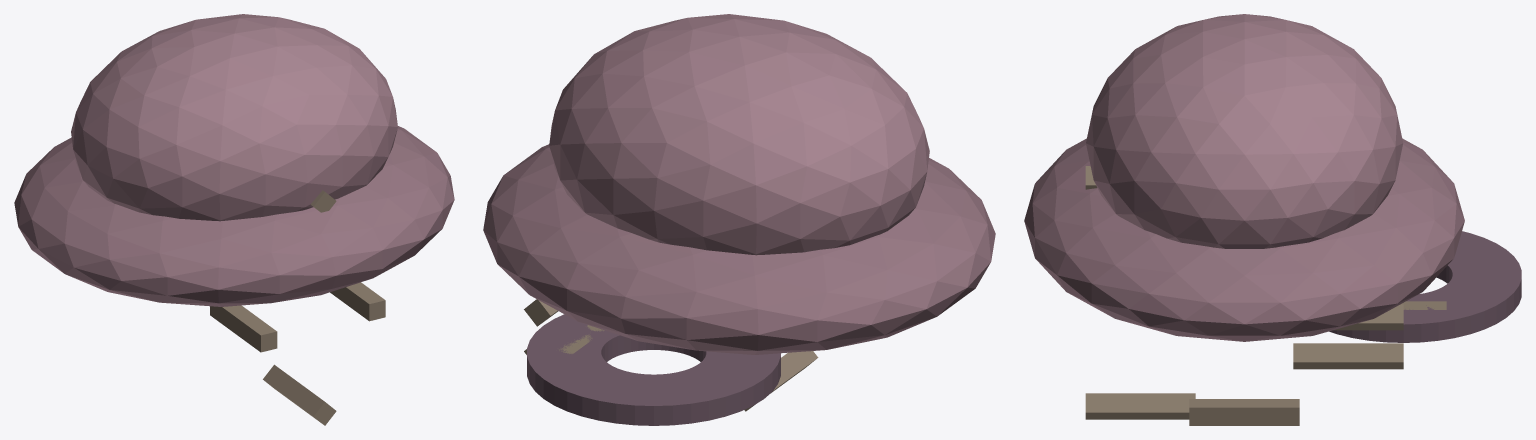
File: zglengo_spawning_nest.glb
The picture shows the model from 3 angles, left to right: view 1: azimuth 30°, elevation 25°; view 2: azimuth 150°, elevation 25°; view 3: azimuth 270°, elevation 25°; orthographic projection. The views are drawn at different scales.
Parts seen in each view (by area): view 1: nest_body, base_nest, tendril_2, tendril_3, tendril_4; view 2: nest_body, base_nest, egg_pit_ring, tendril_3, tendril_5; view 3: nest_body, base_nest, egg_pit_ring, tendril_4, tendril_7, tendril_3, tendril_5.
Part boxes in pixels (left/top/right/bottom): nest_body: left=71, top=14, right=397, bottom=221; base_nest: left=14, top=126, right=454, bottom=306; tendril_2: left=210, top=305, right=277, bottom=352; tendril_3: left=263, top=364, right=336, bottom=425; tendril_4: left=330, top=282, right=385, bottom=321; nest_body: left=549, top=14, right=929, bottom=255; base_nest: left=483, top=144, right=995, bottom=354; egg_pit_ring: left=527, top=314, right=780, bottom=425; tendril_3: left=744, top=351, right=818, bottom=411; tendril_5: left=524, top=299, right=558, bottom=326; nest_body: left=1086, top=14, right=1403, bottom=248; base_nest: left=1024, top=138, right=1464, bottom=341; egg_pit_ring: left=1329, top=231, right=1521, bottom=342; tendril_4: left=1189, top=399, right=1299, bottom=425; tendril_7: left=1293, top=343, right=1403, bottom=369; tendril_3: left=1085, top=393, right=1195, bottom=419; tendril_5: left=1334, top=304, right=1403, bottom=330.
Size of the model in its own units: 2.4 by 2.01 by 2.44.
